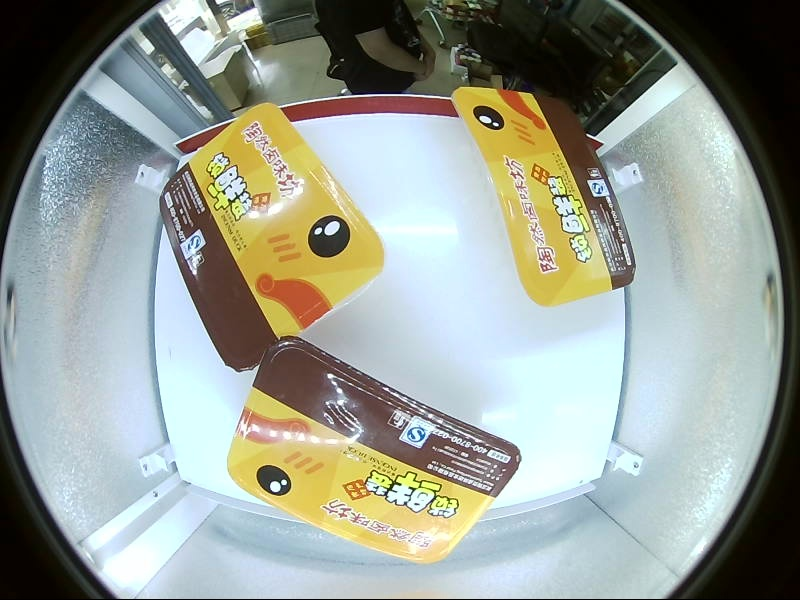ops-m155: (234, 169, 567, 464), (327, 283, 608, 555), (271, 116, 578, 356), (232, 319, 538, 558), (193, 240, 434, 528), (225, 335, 521, 565), (273, 200, 567, 416), (366, 179, 564, 479), (341, 340, 606, 563), (166, 183, 428, 402), (192, 173, 377, 466), (284, 199, 525, 422), (446, 130, 651, 384), (120, 254, 332, 497), (381, 133, 626, 342), (371, 298, 570, 552), (326, 327, 537, 564), (211, 363, 493, 538), (385, 310, 582, 558), (381, 308, 575, 557), (158, 272, 339, 532), (356, 73, 562, 301), (371, 322, 568, 559), (204, 323, 399, 561), (356, 232, 570, 443), (304, 149, 528, 349), (209, 69, 409, 289), (174, 384, 429, 556), (449, 82, 638, 310), (344, 265, 545, 478), (280, 405, 556, 560), (401, 71, 590, 295), (481, 160, 634, 435), (439, 314, 654, 507), (363, 159, 579, 350), (477, 295, 645, 539), (363, 113, 575, 306), (315, 413, 579, 566), (372, 271, 580, 465), (362, 302, 563, 501), (452, 162, 650, 363), (376, 268, 566, 477), (234, 286, 435, 472), (365, 118, 573, 295), (475, 316, 658, 515), (476, 217, 643, 435), (485, 202, 665, 404), (482, 209, 661, 412), (146, 402, 367, 562), (450, 188, 615, 402), (129, 369, 332, 542), (456, 202, 630, 403), (195, 213, 377, 404), (467, 265, 639, 467), (380, 70, 613, 219), (242, 321, 446, 490), (131, 386, 329, 559), (128, 381, 322, 556), (465, 308, 639, 496), (459, 389, 652, 557), (461, 383, 653, 551), (462, 307, 635, 493), (458, 384, 651, 550), (456, 70, 648, 236), (450, 306, 625, 488), (355, 237, 560, 391), (346, 202, 494, 414), (194, 269, 349, 465), (523, 322, 661, 541), (322, 299, 482, 487), (289, 227, 435, 432), (221, 289, 377, 480), (423, 209, 565, 418), (517, 88, 659, 295), (400, 203, 540, 412), (325, 308, 481, 493), (377, 133, 580, 275), (294, 122, 496, 264), (348, 232, 543, 379), (291, 207, 426, 415), (407, 289, 596, 434), (400, 190, 535, 392), (418, 195, 552, 398), (444, 277, 614, 437), (554, 172, 660, 427), (287, 194, 419, 397), (405, 323, 550, 505), (395, 304, 536, 487), (351, 111, 498, 286), (407, 322, 548, 502), (307, 317, 446, 499), (279, 309, 420, 488), (301, 114, 438, 298), (284, 306, 420, 490), (300, 317, 434, 503), (428, 114, 566, 294), (228, 353, 415, 485), (364, 113, 557, 240), (313, 381, 512, 504), (418, 318, 549, 502), (400, 114, 535, 292), (413, 317, 550, 492), (472, 294, 596, 483), (491, 125, 623, 301), (485, 211, 644, 357), (350, 113, 544, 232), (337, 116, 531, 234), (475, 227, 632, 370), (197, 227, 354, 369), (468, 124, 623, 260), (470, 120, 631, 250), (333, 121, 525, 230), (204, 353, 358, 488), (199, 346, 366, 470), (515, 126, 633, 299), (474, 132, 640, 253), (526, 326, 643, 497), (201, 234, 307, 422), (465, 363, 623, 489), (523, 278, 632, 460), (206, 302, 319, 477), (468, 118, 626, 243), (524, 329, 642, 495), (537, 214, 637, 405), (520, 125, 632, 291), (206, 310, 312, 484), (518, 126, 629, 291), (523, 300, 626, 473), (533, 196, 628, 381)
